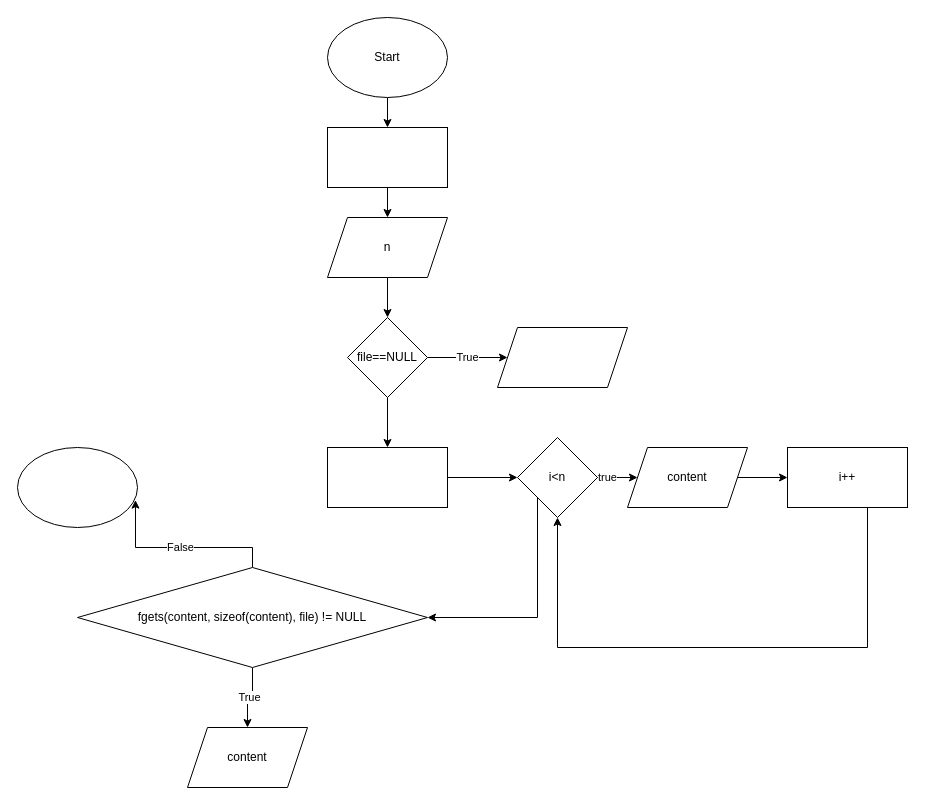
The diagram is 925 pixels wide and 805 high, and some of its shapes have lost their labels. Each missing label, with the centre of its shape:
"End" goes at point 77,487.
"file,n" goes at point 387,157.
"i=0" goes at point 387,477.
"Khong the mo file" goes at point 562,357.
